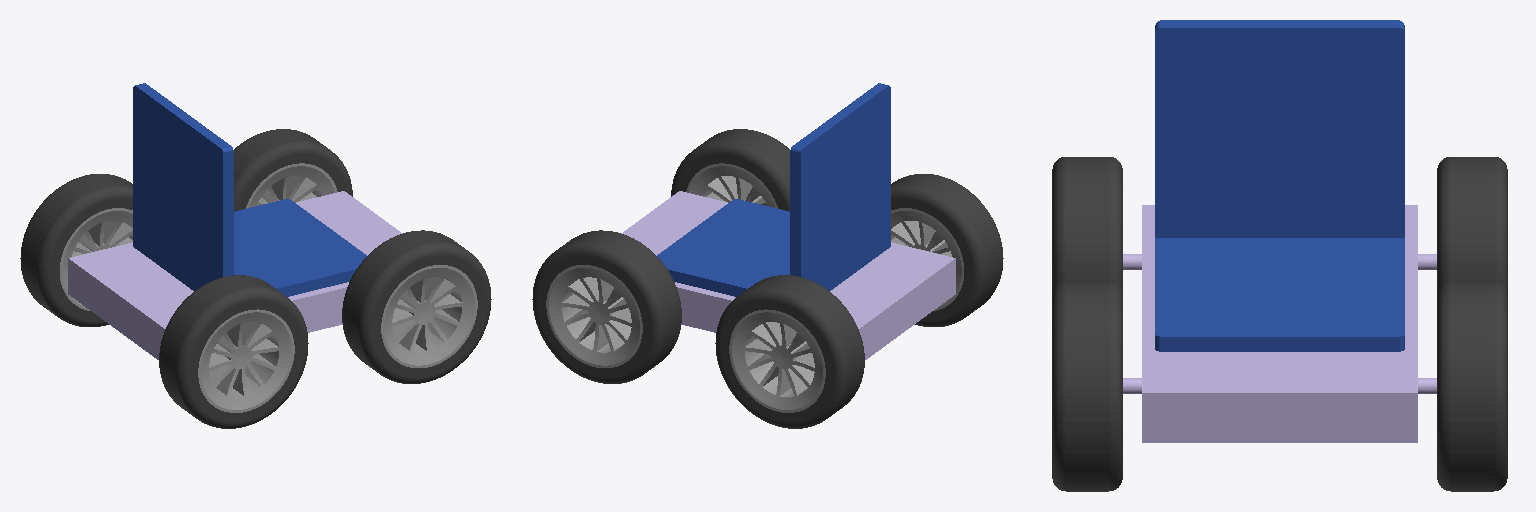
robot.urdf — wheelchair:
<?xml version="1.0" ?>
<!-- Generated using onshape-to-robot -->
<!-- Onshape document_id: 6f4b288bd678b0ae0f72219d -->
<robot name="wheelchair">
  <!-- Link base_link -->
  <link name="base_link">
    <inertial>
      <origin xyz="-4.76552e-18 2.86142e-17 -0.05" rpy="0 0 0"/>
      <mass value="109.261"/>
      <inertia ixx="2.39367" ixy="-7.30346e-16" ixz="0" iyy="5.92579" iyz="0" izz="8.13808"/>
    </inertial>
    <!-- Part base_link -->
    <visual>
      <origin xyz="0 0 -0.1" rpy="0 -0 0"/>
      <geometry>
        <mesh filename="package://wheelchair_description/wheelchair/assets/frame.stl"/>
      </geometry>
      <material name="base_link_material">
        <color rgba="0.8 0.74902 0.913725 1"/>
      </material>
    </visual>
    <collision>
      <origin xyz="0 0 -0.1" rpy="0 -0 0"/>
      <geometry>
        <mesh filename="package://wheelchair_description/wheelchair/assets/frame.stl"/>
      </geometry>
    </collision>
  </link>
  <!-- Link chair -->
  <link name="chair">
    <inertial>
      <origin xyz="-2.47568e-17 -0.101356 -0.123597" rpy="0 0 0"/>
      <mass value="13.9735"/>
      <inertia ixx="0.552457" ixy="1.94092e-16" ixz="0" iyy="0.511931" iyz="-0.164794" izz="0.511931"/>
    </inertial>
    <!-- Part chair -->
    <visual>
      <origin xyz="-5.74184e-17 4.72259e-05 0" rpy="3.14159 -0 0"/>
      <geometry>
        <mesh filename="package://wheelchair_description/wheelchair/assets/chair.stl"/>
      </geometry>
      <material name="chair_material">
        <color rgba="0.231373 0.380392 0.705882 1"/>
      </material>
    </visual>
    <collision>
      <origin xyz="-5.74184e-17 4.72259e-05 0" rpy="3.14159 -0 0"/>
      <geometry>
        <mesh filename="package://wheelchair_description/wheelchair/assets/chair.stl"/>
      </geometry>
    </collision>
  </link>
  <!-- Joint from base_link to chair -->
  <joint name="chair_joint" type="fixed">
    <origin xyz="-1.42302e-19 5.74184e-17 0" rpy="3.14159 -0 1.5708"/>
    <parent link="base_link"/>
    <child link="chair"/>
    <axis xyz="0 0 1"/>
    <limit effort="10" velocity="10"/>
  </joint>
  <!-- Link left_wheel -->
  <link name="left_wheel">
    <inertial>
      <origin xyz="-2.22037e-09 1.06602e-06 -0.037537" rpy="0 0 0"/>
      <mass value="13.3494"/>
      <inertia ixx="0.111824" ixy="-2.80625e-07" ixz="1.36714e-10" iyy="0.111824" iyz="1.28637e-07" izz="0.19275"/>
    </inertial>
    <!-- Part tire -->
    <visual>
      <origin xyz="0 0 -0.037537" rpy="1.5708 1.38778e-16 0"/>
      <geometry>
        <mesh filename="package://wheelchair_description/wheelchair/assets/tire.stl"/>
      </geometry>
      <material name="tire_material">
        <color rgba="0.301961 0.301961 0.301961 1"/>
      </material>
    </visual>
    <collision>
      <origin xyz="0 0 -0.037537" rpy="1.5708 1.38778e-16 0"/>
      <geometry>
        <mesh filename="package://wheelchair_description/wheelchair/assets/tire.stl"/>
      </geometry>
    </collision>
    <!-- Part rim -->
    <visual>
      <origin xyz="0 0 -0.037537" rpy="1.5708 -3.50219e-16 0"/>
      <geometry>
        <mesh filename="package://wheelchair_description/wheelchair/assets/rim.stl"/>
      </geometry>
      <material name="rim_material">
        <color rgba="0.647059 0.647059 0.647059 1"/>
      </material>
    </visual>
    <collision>
      <origin xyz="0 0 -0.037537" rpy="1.5708 -3.50219e-16 0"/>
      <geometry>
        <mesh filename="package://wheelchair_description/wheelchair/assets/rim.stl"/>
      </geometry>
    </collision>
  </link>
  <!-- Joint from base_link to left_wheel -->
  <joint name="front_rw" type="continuous">
    <origin xyz="0.265 -0.31 -0.05" rpy="-1.5708 -0 1.38778e-16"/>
    <parent link="base_link"/>
    <child link="left_wheel"/>
    <axis xyz="0 0 1"/>
    
  </joint>
  <!-- Link right_wheel -->
  <link name="right_wheel">
    <inertial>
      <origin xyz="-2.22037e-09 1.06602e-06 0.0375369" rpy="0 0 0"/>
      <mass value="13.3494"/>
      <inertia ixx="0.111824" ixy="-2.80625e-07" ixz="1.36714e-10" iyy="0.111824" iyz="1.28637e-07" izz="0.19275"/>
    </inertial>
    <!-- Part tire_2 -->
    <visual>
      <origin xyz="0 0 0.037537" rpy="1.5708 -1.38778e-16 0"/>
      <geometry>
        <mesh filename="package://wheelchair_description/wheelchair/assets/tire.stl"/>
      </geometry>
      <material name="tire_2_material">
        <color rgba="0.301961 0.301961 0.301961 1"/>
      </material>
    </visual>
    <collision>
      <origin xyz="0 0 0.037537" rpy="1.5708 -1.38778e-16 0"/>
      <geometry>
        <mesh filename="package://wheelchair_description/wheelchair/assets/tire.stl"/>
      </geometry>
    </collision>
    <!-- Part rim_2 -->
    <visual>
      <origin xyz="0 0 0.037537" rpy="1.5708 -3.50219e-16 0"/>
      <geometry>
        <mesh filename="package://wheelchair_description/wheelchair/assets/rim.stl"/>
      </geometry>
      <material name="rim_2_material">
        <color rgba="0.647059 0.647059 0.647059 1"/>
      </material>
    </visual>
    <collision>
      <origin xyz="0 0 0.037537" rpy="1.5708 -3.50219e-16 0"/>
      <geometry>
        <mesh filename="package://wheelchair_description/wheelchair/assets/rim.stl"/>
      </geometry>
    </collision>
  </link>
  <!-- Joint from base_link to right_wheel -->
  <joint name="front_lw" type="continuous">
    <origin xyz="0.265 0.31 -0.05" rpy="-1.5708 -0 -1.38778e-16"/>
    <parent link="base_link"/>
    <child link="right_wheel"/>
    <axis xyz="0 0 1"/>
    
  </joint>
  <!-- Link right_wheel_2 -->
  <link name="right_wheel_2">
    <inertial>
      <origin xyz="-2.22037e-09 1.06602e-06 0.0375369" rpy="0 0 0"/>
      <mass value="13.3494"/>
      <inertia ixx="0.111824" ixy="-2.80625e-07" ixz="1.36714e-10" iyy="0.111824" iyz="1.28637e-07" izz="0.19275"/>
    </inertial>
    <!-- Part tire_3 -->
    <visual>
      <origin xyz="0 0 0.037537" rpy="1.5708 -1.38778e-16 0"/>
      <geometry>
        <mesh filename="package://wheelchair_description/wheelchair/assets/tire.stl"/>
      </geometry>
      <material name="tire_3_material">
        <color rgba="0.301961 0.301961 0.301961 1"/>
      </material>
    </visual>
    <collision>
      <origin xyz="0 0 0.037537" rpy="1.5708 -1.38778e-16 0"/>
      <geometry>
        <mesh filename="package://wheelchair_description/wheelchair/assets/tire.stl"/>
      </geometry>
    </collision>
    <!-- Part rim_3 -->
    <visual>
      <origin xyz="0 0 0.037537" rpy="1.5708 -3.50219e-16 0"/>
      <geometry>
        <mesh filename="package://wheelchair_description/wheelchair/assets/rim.stl"/>
      </geometry>
      <material name="rim_3_material">
        <color rgba="0.647059 0.647059 0.647059 1"/>
      </material>
    </visual>
    <collision>
      <origin xyz="0 0 0.037537" rpy="1.5708 -3.50219e-16 0"/>
      <geometry>
        <mesh filename="package://wheelchair_description/wheelchair/assets/rim.stl"/>
      </geometry>
    </collision>
  </link>
  <!-- Joint from base_link to right_wheel_2 -->
  <joint name="back_lw" type="continuous">
    <origin xyz="-0.265 0.31 -0.05" rpy="-1.5708 -0 -1.38778e-16"/>
    <parent link="base_link"/>
    <child link="right_wheel_2"/>
    <axis xyz="0 0 1"/>
    
  </joint>
  <!-- Link left_wheel_2 -->
  <link name="left_wheel_2">
    <inertial>
      <origin xyz="-2.22037e-09 1.06602e-06 -0.037537" rpy="0 0 0"/>
      <mass value="13.3494"/>
      <inertia ixx="0.111824" ixy="-2.80625e-07" ixz="1.36714e-10" iyy="0.111824" iyz="1.28637e-07" izz="0.19275"/>
    </inertial>
    <!-- Part tire_4 -->
    <visual>
      <origin xyz="0 2.77556e-17 -0.037537" rpy="1.5708 1.38778e-16 0"/>
      <geometry>
        <mesh filename="package://wheelchair_description/wheelchair/assets/tire.stl"/>
      </geometry>
      <material name="tire_4_material">
        <color rgba="0.301961 0.301961 0.301961 1"/>
      </material>
    </visual>
    <collision>
      <origin xyz="0 2.77556e-17 -0.037537" rpy="1.5708 1.38778e-16 0"/>
      <geometry>
        <mesh filename="package://wheelchair_description/wheelchair/assets/tire.stl"/>
      </geometry>
    </collision>
    <!-- Part rim_4 -->
    <visual>
      <origin xyz="0 2.77556e-17 -0.037537" rpy="1.5708 -3.50219e-16 0"/>
      <geometry>
        <mesh filename="package://wheelchair_description/wheelchair/assets/rim.stl"/>
      </geometry>
      <material name="rim_4_material">
        <color rgba="0.647059 0.647059 0.647059 1"/>
      </material>
    </visual>
    <collision>
      <origin xyz="0 2.77556e-17 -0.037537" rpy="1.5708 -3.50219e-16 0"/>
      <geometry>
        <mesh filename="package://wheelchair_description/wheelchair/assets/rim.stl"/>
      </geometry>
    </collision>
  </link>
  <!-- Joint from base_link to left_wheel_2 -->
  <joint name="back_rw" type="continuous">
    <origin xyz="-0.265 -0.31 -0.05" rpy="-1.5708 -0 1.38778e-16"/>
    <parent link="base_link"/>
    <child link="left_wheel_2"/>
    <axis xyz="0 0 1"/>
  
  </joint>


  <gazebo>
    <plugin name="ignition::gazebo::systems::DiffDrive" filename="libignition-gazebo6-diff-drive-system.so">
      <left_joint>front_lw</left_joint>
      <right_joint>front_rw</right_joint>
      <left_joint>back_lw</left_joint>
      <right_joint>back_rw</right_joint>
      <wheel_separation>0.62</wheel_separation>
      <wheel_radius>0.15</wheel_radius>
      <topic>/cmd_vel</topic>
      <odom_topic>odom</odom_topic>
      <odom_publish_frequency>50</odom_publish_frequency>
    </plugin>
  </gazebo>





</robot>

--- Render facts (derived) ---
The picture shows the robot from 3 angles, left to right: view 1: azimuth 30°, elevation 25°; view 2: azimuth 150°, elevation 25°; view 3: azimuth 270°, elevation 25°; orthographic projection.
Robot: wheelchair — 6 links, 5 joints (4 continuous, 1 fixed); root link base_link; default pose: every joint at zero.
Visible links, largest first — view 1: chair, left_wheel_2, left_wheel, base_link, right_wheel_2, right_wheel; view 2: chair, right_wheel_2, right_wheel, base_link, left_wheel_2, left_wheel; view 3: chair, base_link, left_wheel, right_wheel, right_wheel_2, left_wheel_2.
Link boxes in pixels (box(x1,y1,x2,y2)): chair: box(133, 83, 366, 296); left_wheel_2: box(159, 275, 308, 428); left_wheel: box(342, 230, 491, 383); base_link: box(68, 191, 402, 359); right_wheel_2: box(20, 174, 132, 326); right_wheel: box(234, 129, 352, 211); chair: box(657, 83, 890, 296); right_wheel_2: box(715, 275, 864, 428); right_wheel: box(532, 230, 681, 383); base_link: box(621, 191, 955, 359); left_wheel_2: box(891, 174, 1003, 326); left_wheel: box(671, 129, 789, 211); chair: box(1155, 20, 1404, 351); base_link: box(1123, 205, 1436, 442); left_wheel: box(1052, 281, 1122, 491); right_wheel: box(1437, 281, 1507, 491); right_wheel_2: box(1437, 157, 1507, 292); left_wheel_2: box(1052, 157, 1122, 292).
Size in the robot's own frame: 0.911 by 0.8221 by 0.6905 metres.
10 mesh visuals loaded from 4 distinct referenced files (4 binary STL).